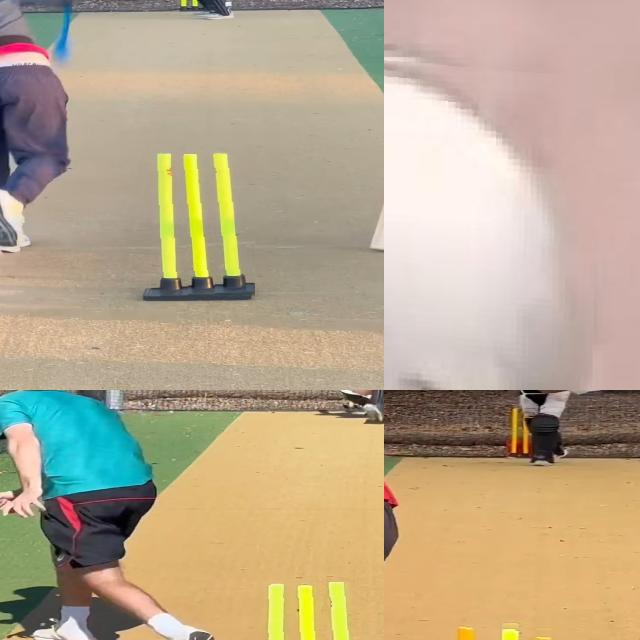Cricket ball: (384, 41, 597, 390)
Stumps: (143, 154, 255, 300), (256, 582, 360, 640)
